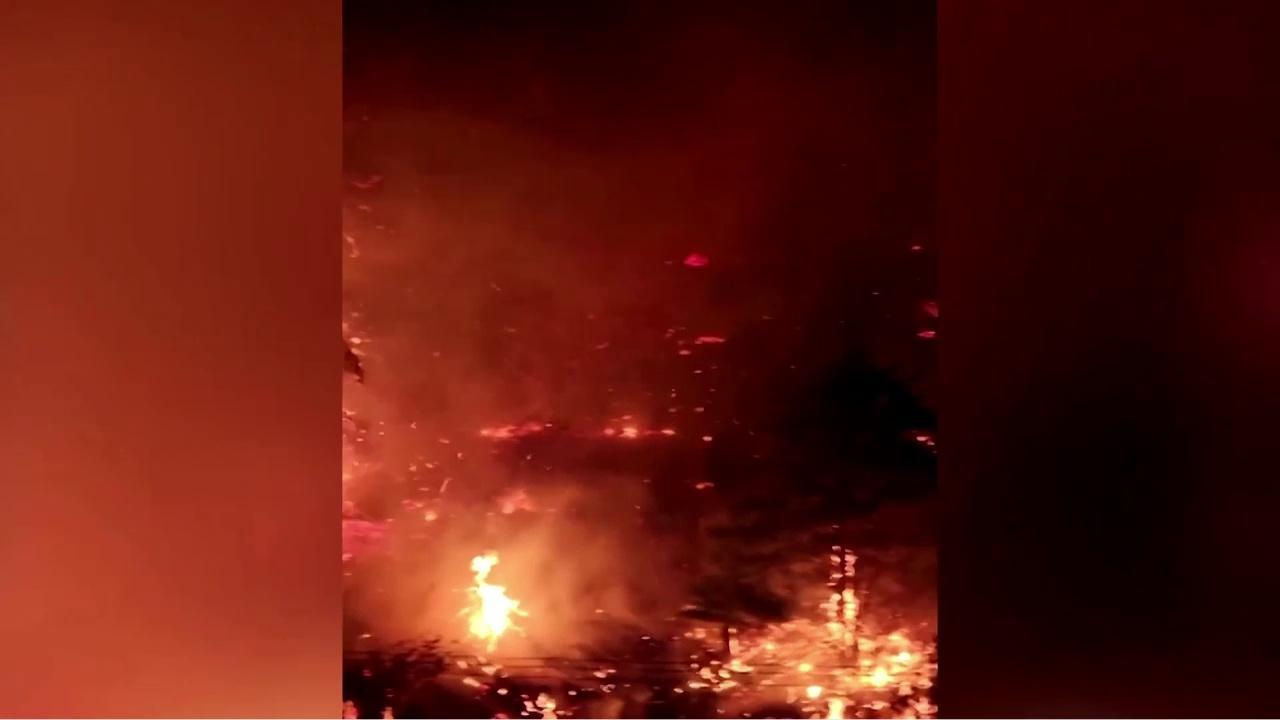fire: (681, 523, 939, 718), (451, 548, 532, 655), (342, 496, 406, 589), (599, 413, 677, 439), (476, 418, 554, 442), (492, 483, 541, 517), (517, 691, 574, 720), (903, 427, 936, 454), (915, 295, 938, 321), (476, 655, 504, 674), (682, 250, 712, 267), (691, 333, 726, 344), (342, 697, 359, 719), (377, 704, 396, 720), (592, 667, 617, 679), (914, 329, 937, 341), (693, 480, 716, 491), (460, 676, 481, 688), (699, 434, 715, 444), (455, 659, 468, 671), (496, 684, 508, 696), (908, 243, 921, 252), (678, 349, 692, 356), (692, 369, 703, 375)
smoke: (343, 7, 938, 720)
